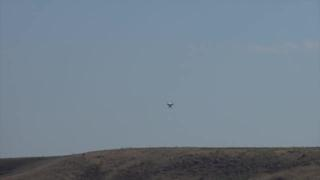UAV: (167, 103, 174, 109)
